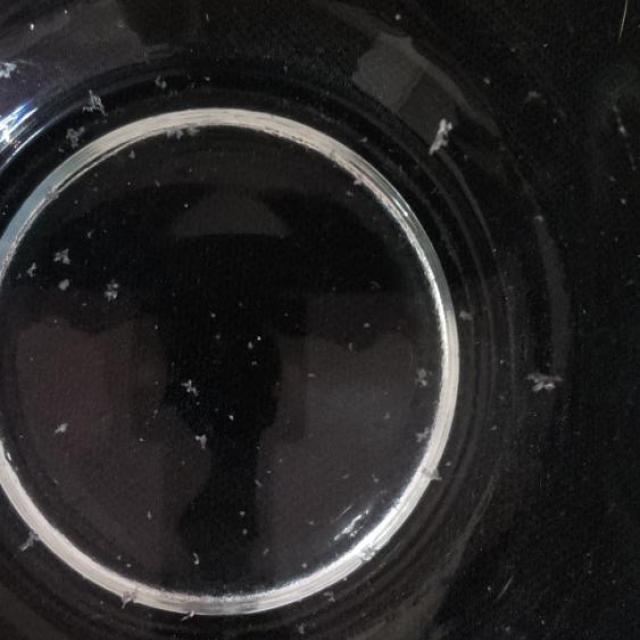fiber: (421, 115, 458, 161), (514, 364, 566, 396), (10, 524, 41, 564), (82, 86, 115, 118), (59, 124, 88, 160), (0, 50, 23, 91), (110, 586, 147, 608), (99, 274, 122, 308), (451, 298, 475, 330), (193, 422, 214, 454), (412, 422, 433, 452), (48, 413, 72, 438), (415, 464, 443, 485), (56, 268, 76, 296), (414, 362, 433, 388), (181, 369, 198, 397), (56, 243, 72, 269), (23, 262, 41, 281)
